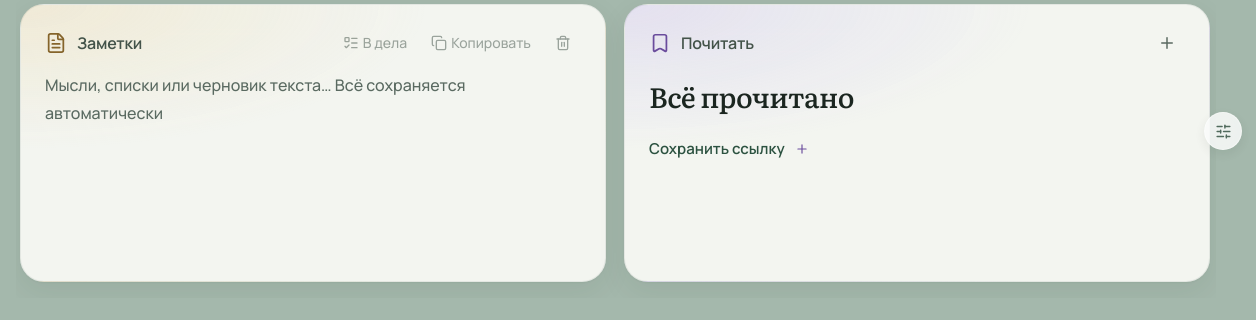
useDashboardDrag Edge Resizing & Tactile Snap Landing › отображает плавающую кнопку настроек дашборда в .dashboard-floating-controls и раскрывает 3 кнопки действий при клике
The image size is (1256, 320).
# Кликаем по кнопке настроек — включается режим редактирования
Step 1. Click the button with class "dashboard-edit-toggle" → (1223, 131), box [1204,112,1242,150]
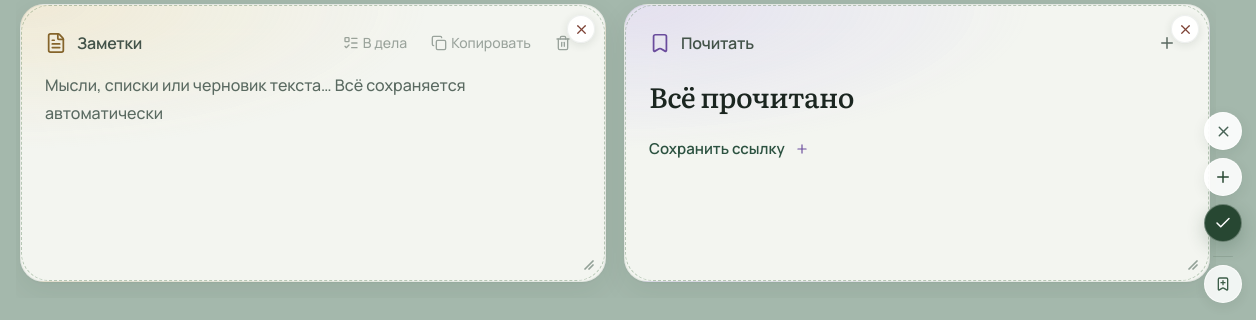
Expected: the button with class "edit-add-btn" is shown, [1204,158,1242,196]
Expected: the button with class "edit-done-btn" is shown, [1204,204,1242,242]
Expected: the button with class "dashboard-presets-quick-btn" is shown, [1204,265,1242,303]
# Нажимаем «Отмена» — возвращается одиночная кнопка настроек
Step 2. Click the button with class "dashboard-edit-toggle" → (1223, 131), box [1204,112,1242,150]
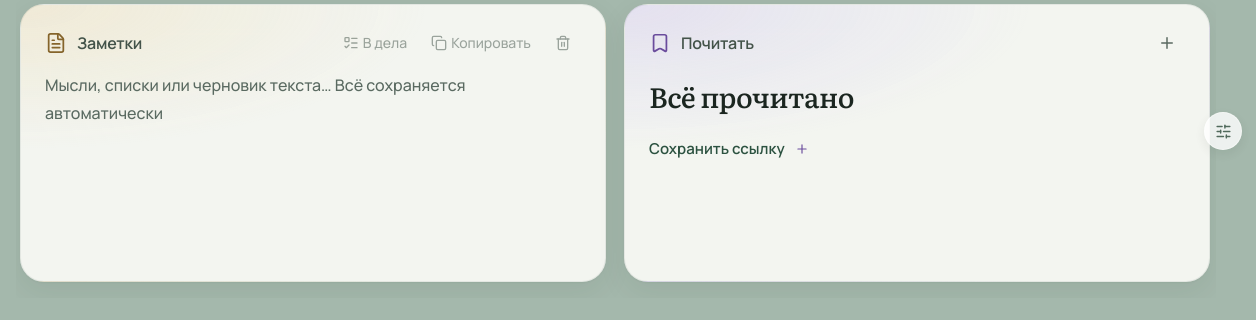
Expected: the button with class "dashboard-edit-toggle" is shown, [1204,112,1242,150]
Expected: the button with class "edit-fab-add" is gone
Expected: the button with class "edit-fab-presets" is gone
